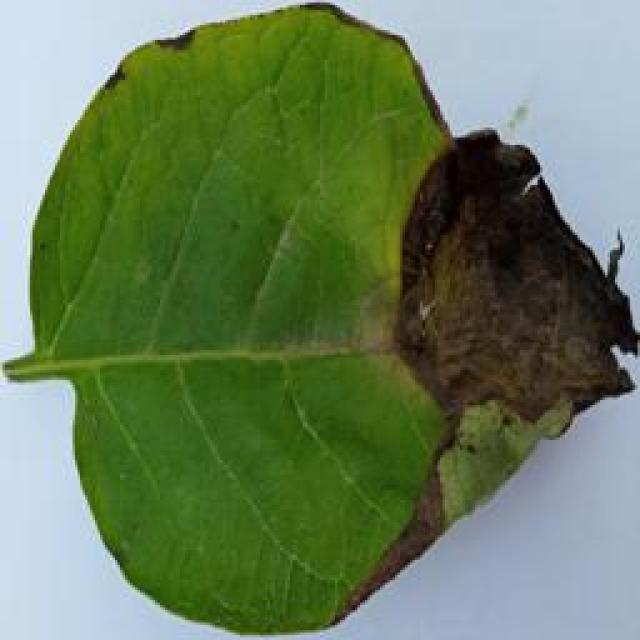Potato_Late_Blight: (5, 8, 628, 632)
